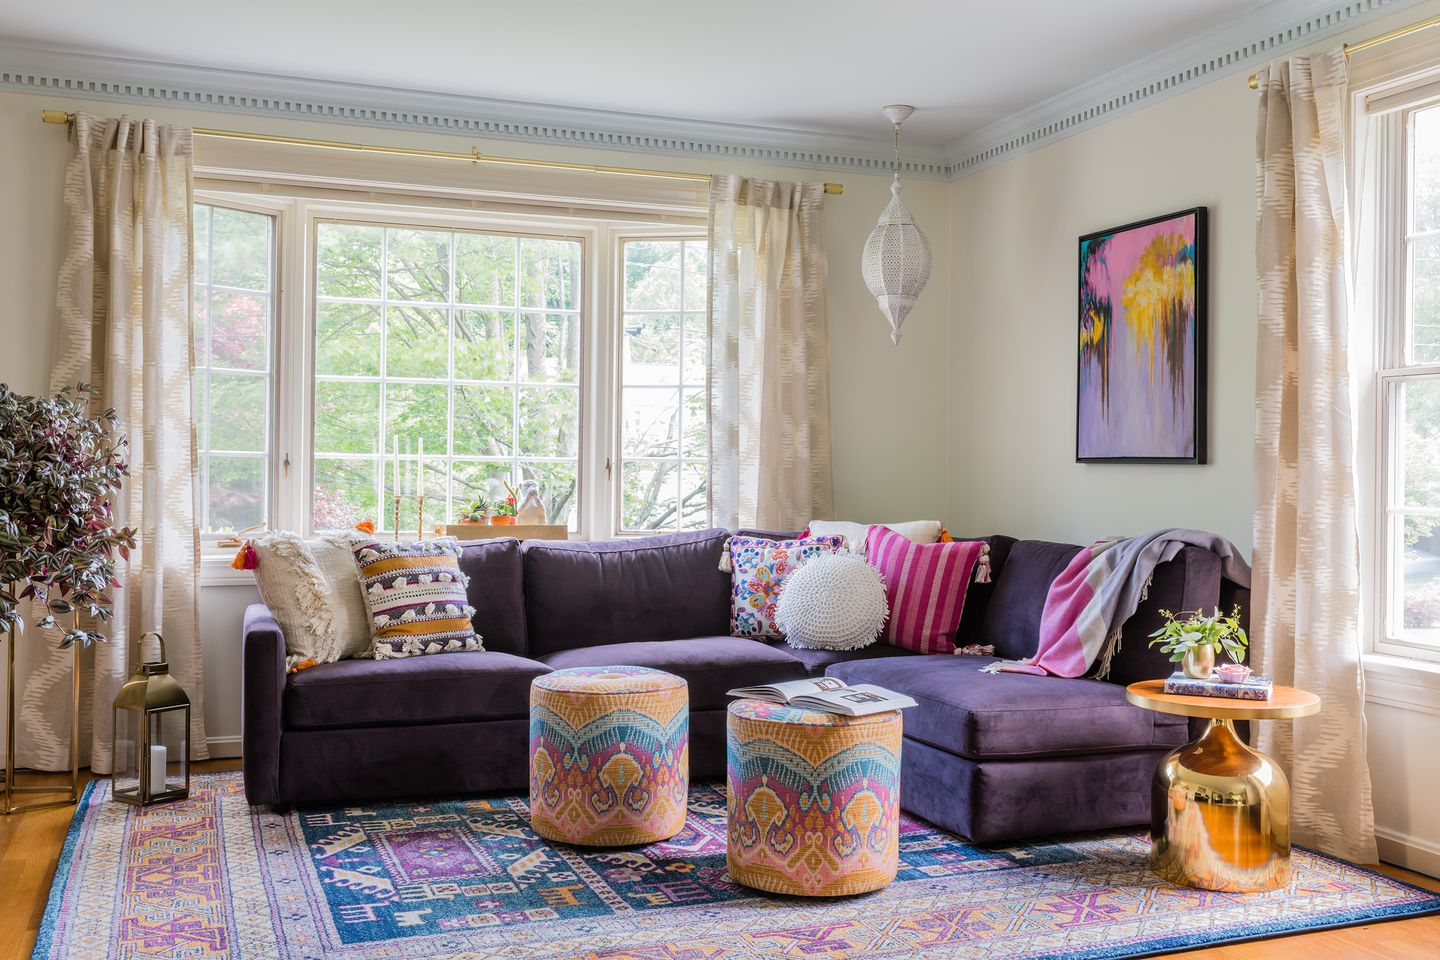putih: (865, 199, 920, 335), (787, 567, 884, 640)
ungu: (472, 543, 740, 643)
